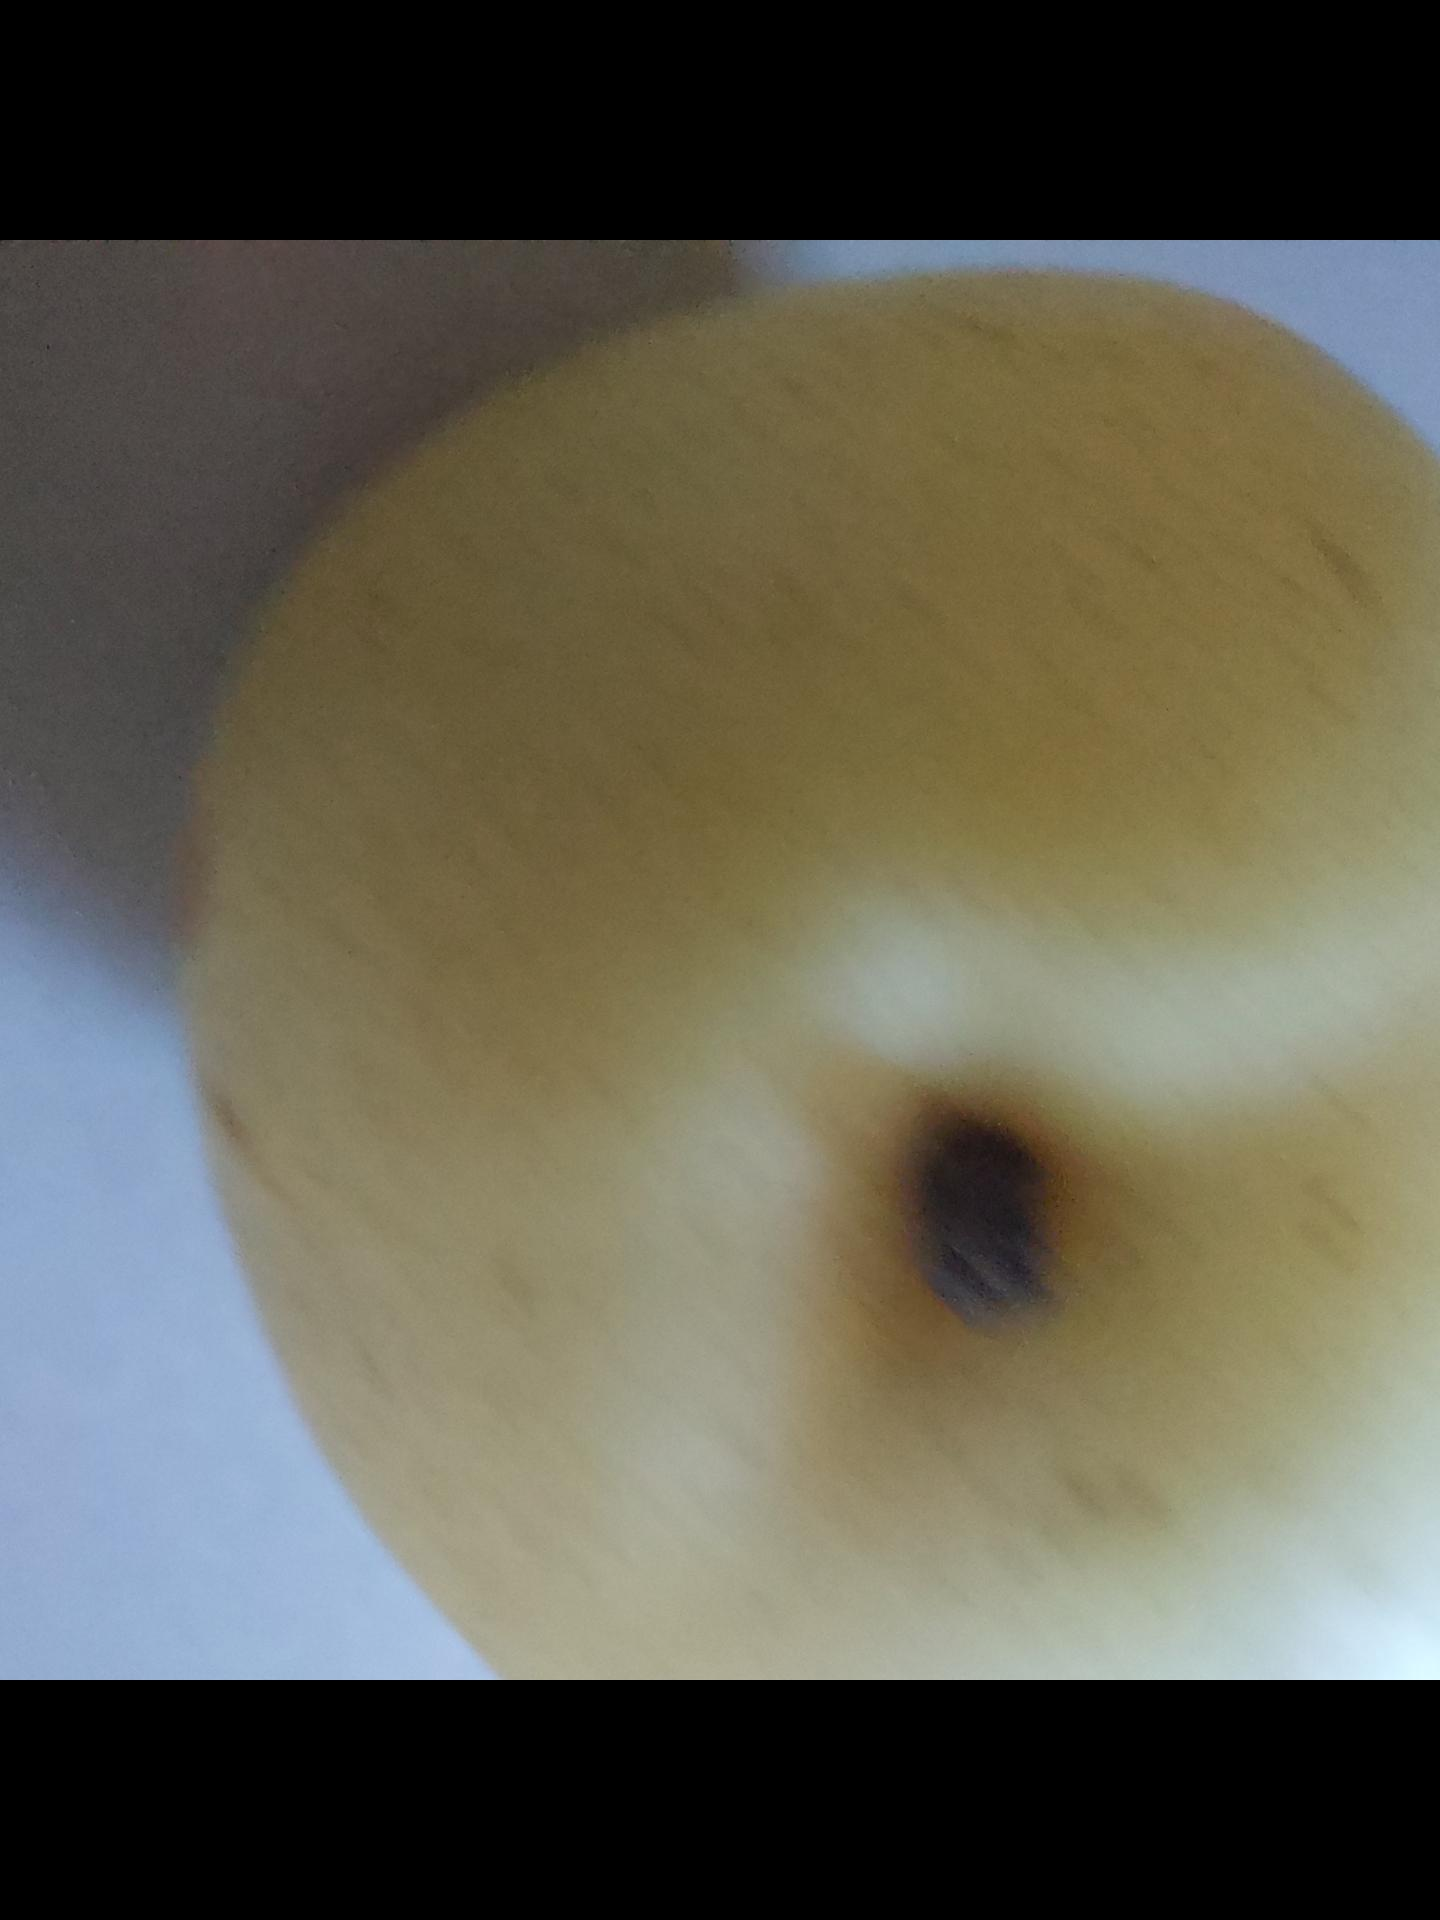Good Pear: (165, 277, 1440, 1680)
